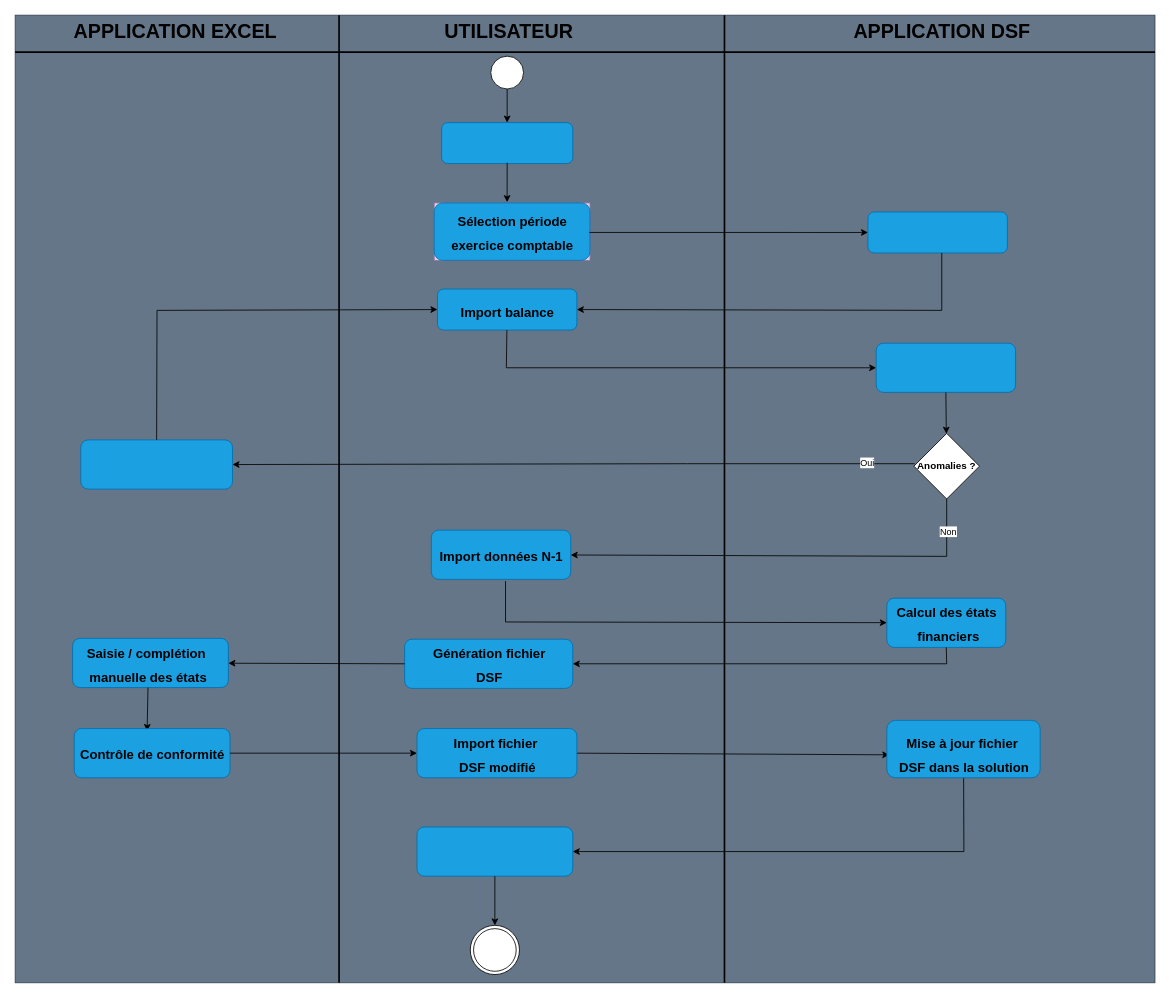
This 1169x997 diagram has some shape labels left out. Each missing label, with the box of its shape:
Contrôle anomalies balance: (875, 342, 1016, 392)
Correction anomalies: (80, 439, 232, 489)
Création fichier DSF: (867, 211, 1007, 253)
Export DSF format DGI: (416, 826, 573, 876)
Sélection entité: (441, 122, 573, 164)
